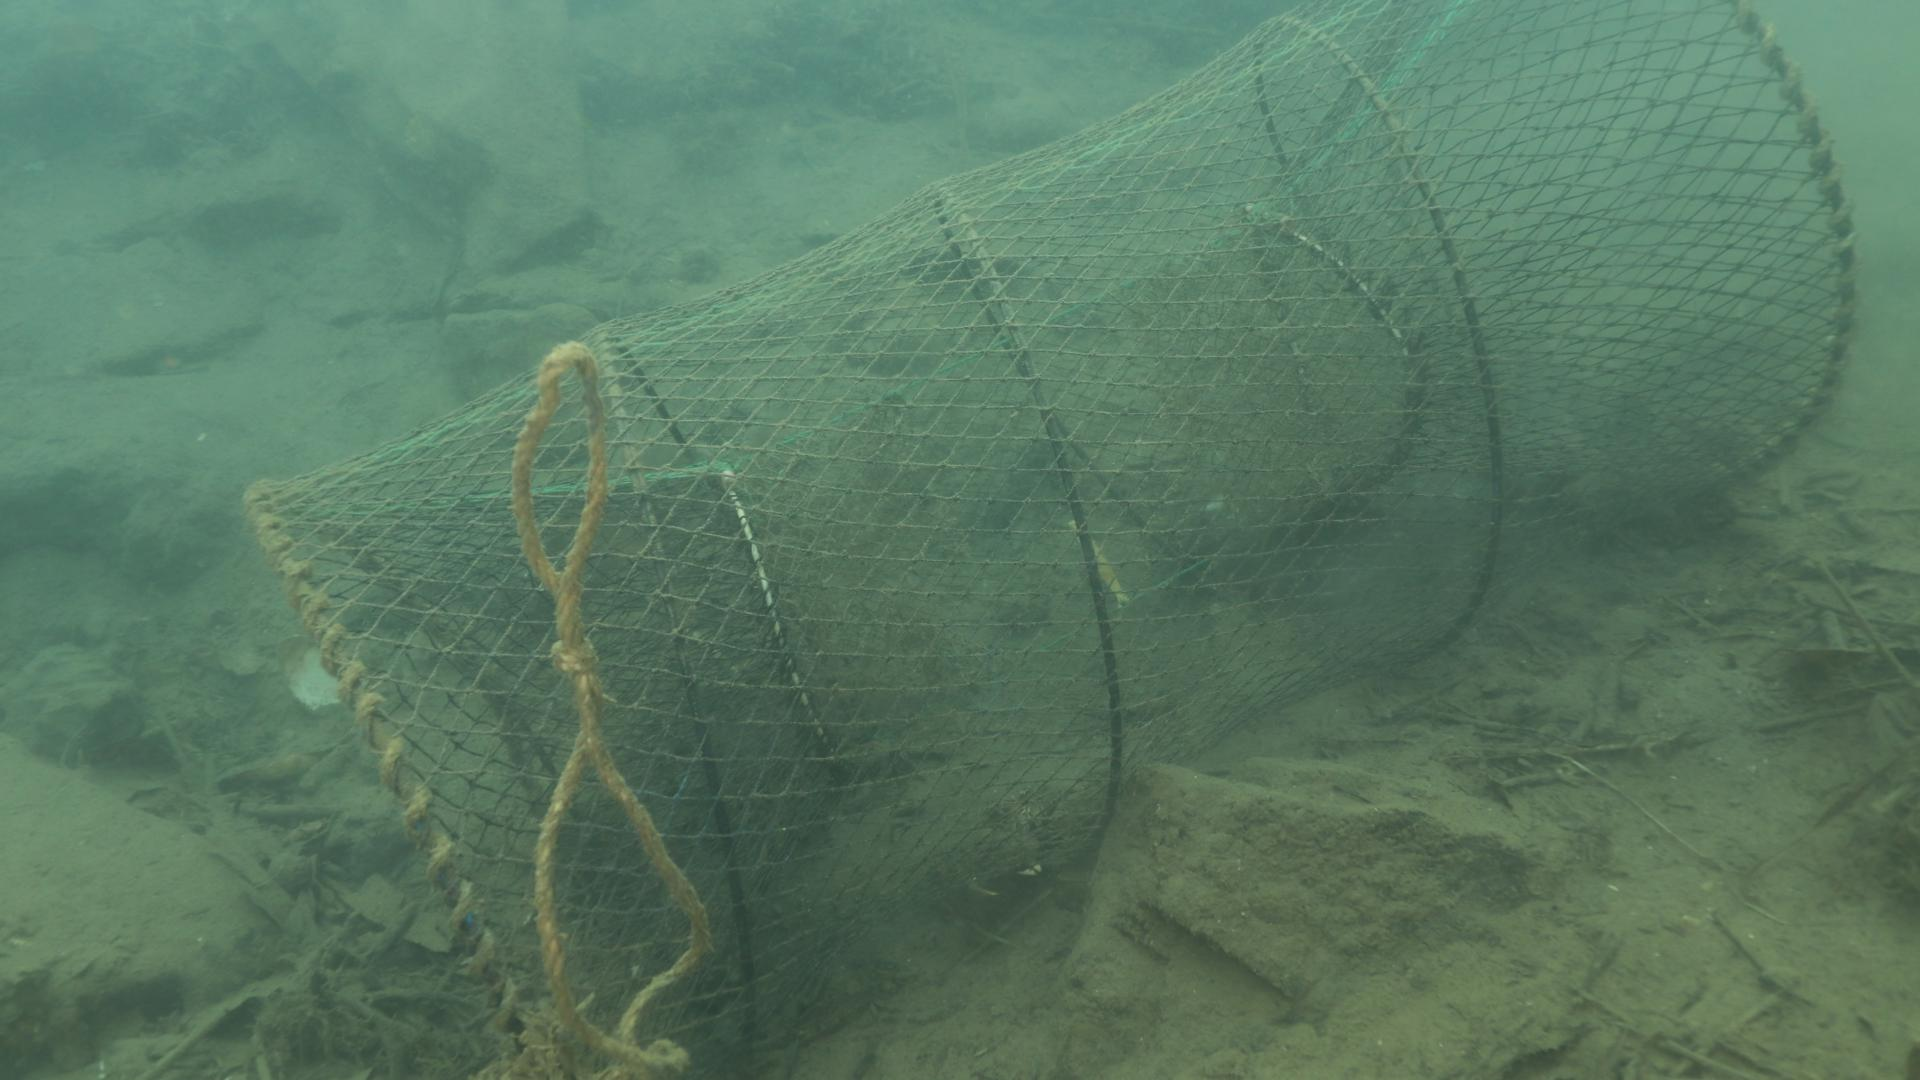bundle of ropes: (498, 331, 715, 1080)
spring fish trap: (237, 0, 1859, 1080)
